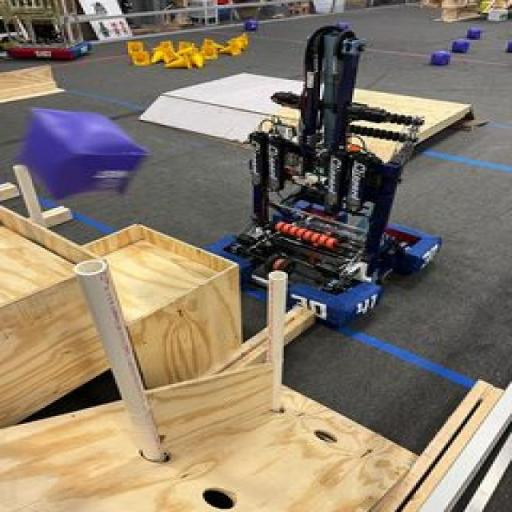robot: (200, 20, 466, 318), (0, 0, 95, 66)
